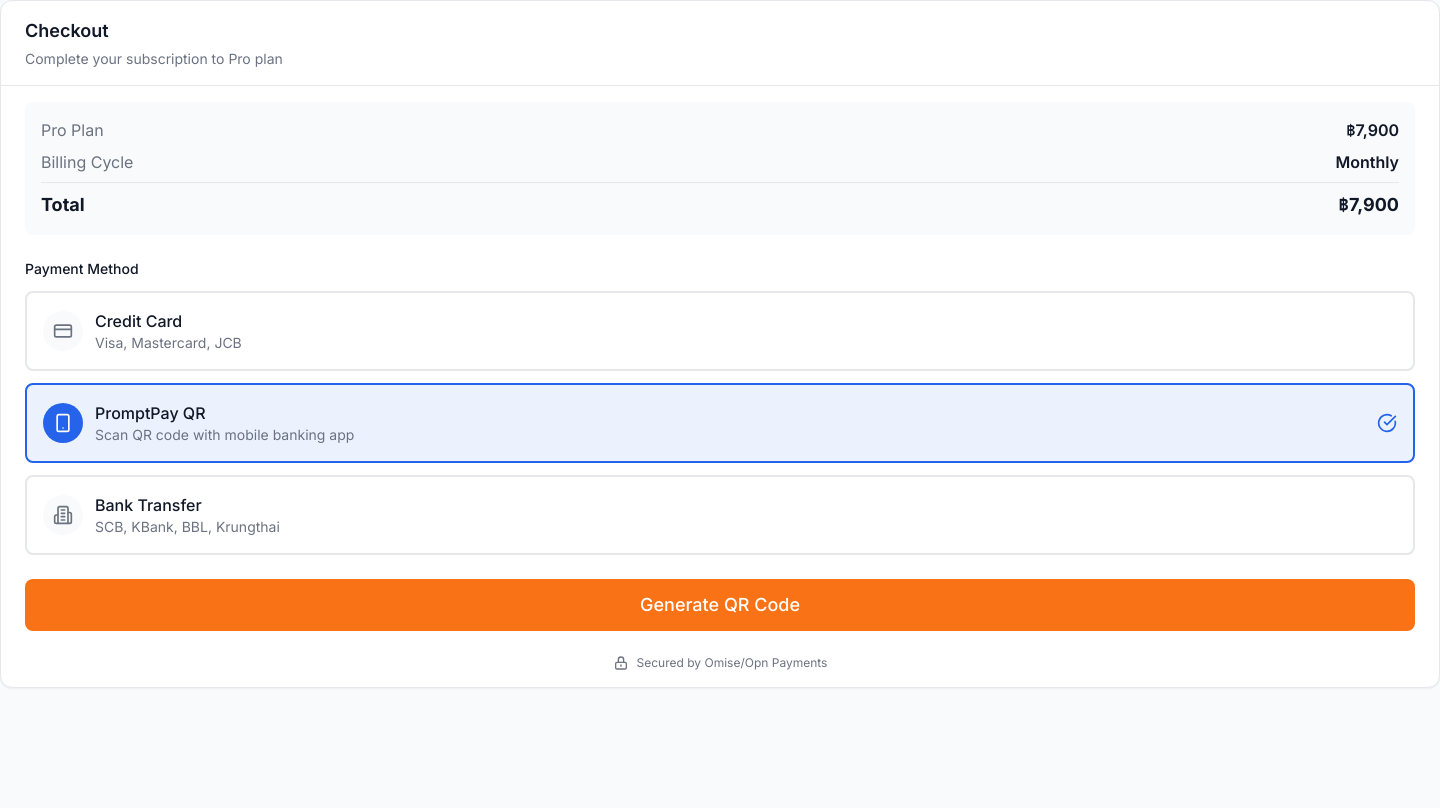
Test: CheckoutForm › shows bank options when bank transfer is selected
Click the button "Bank Transfer SCB, KBank, BBL, Krungthai": click(63, 515) [25,475,1415,555]
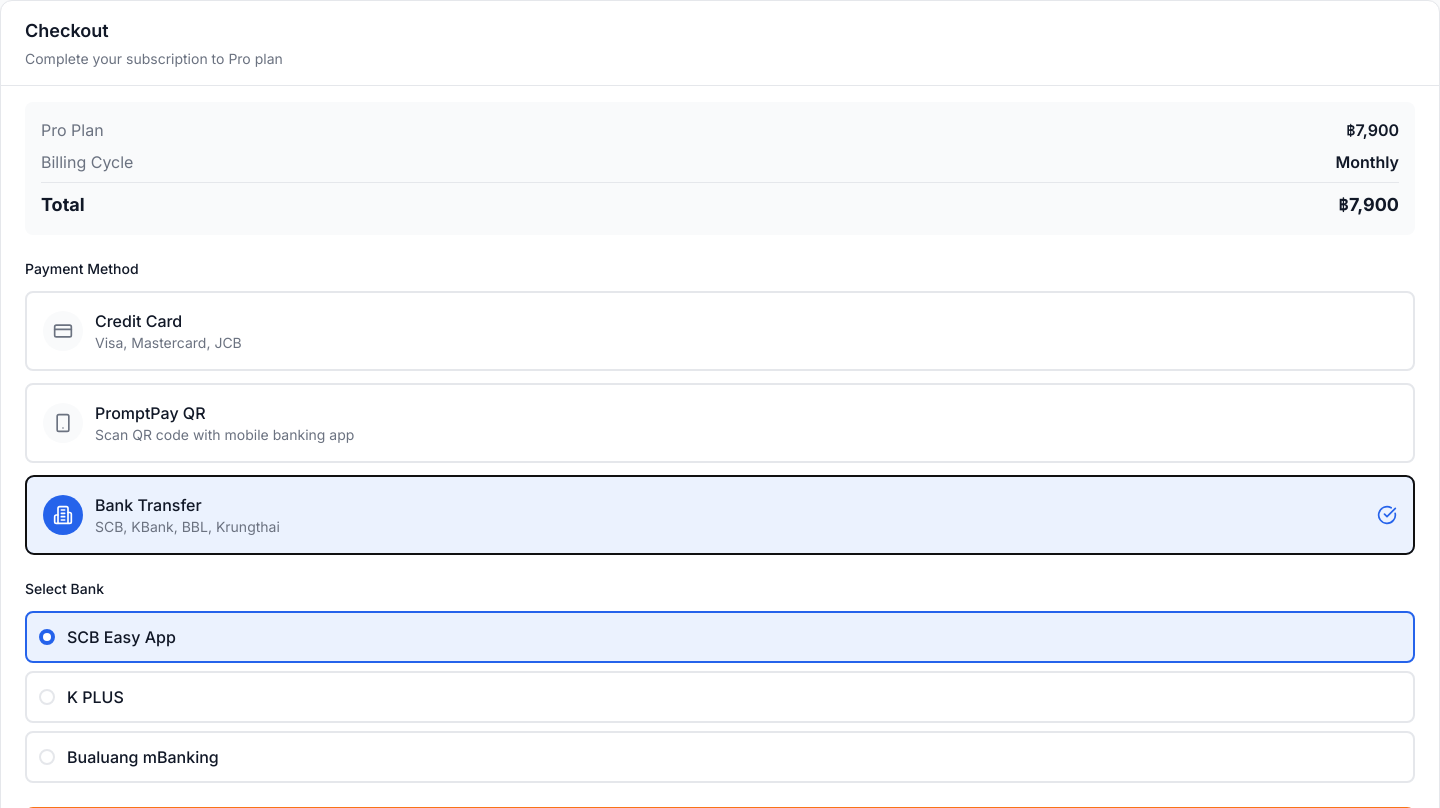
Now the text "Select Bank" is shown, box [25,580,104,597]
Now the text "SCB Easy App" is shown, box [67,625,176,649]
Now the text "K PLUS" is shown, box [67,685,124,709]
